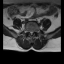CCS_stenosis: (30, 29, 32, 36)
LFS_severe_stenosis: (34, 28, 36, 34)
LLS_stenosis: (32, 29, 34, 34)
RFS_severe_stenosis: (27, 28, 29, 34)
RLS_stenosis: (29, 29, 30, 34)
